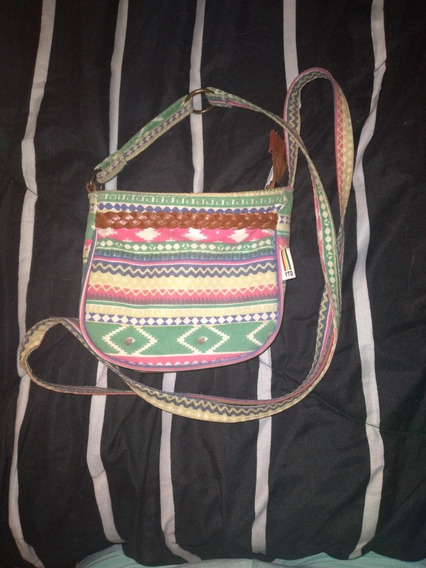cartera: (75, 83, 298, 374)
